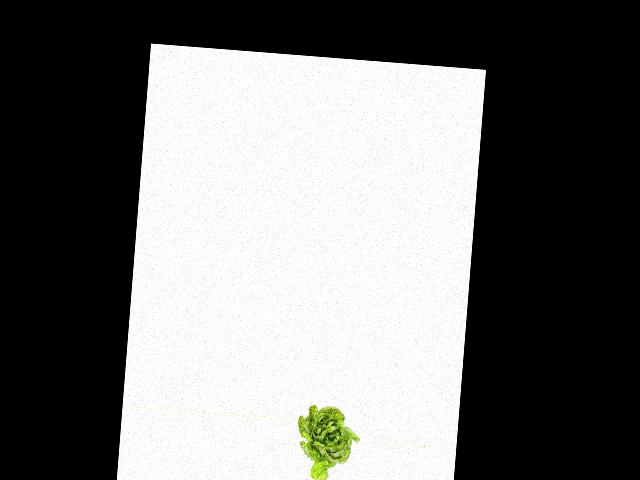lettuce: (295, 402, 362, 480)
